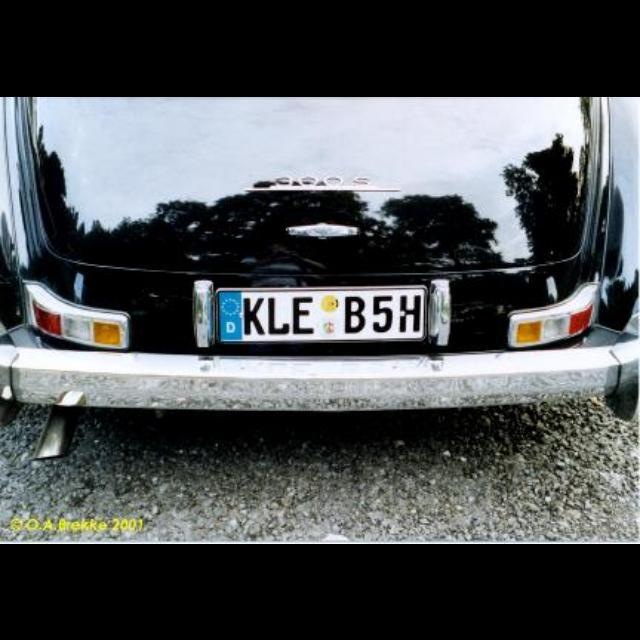license-plates: (217, 286, 430, 344)
